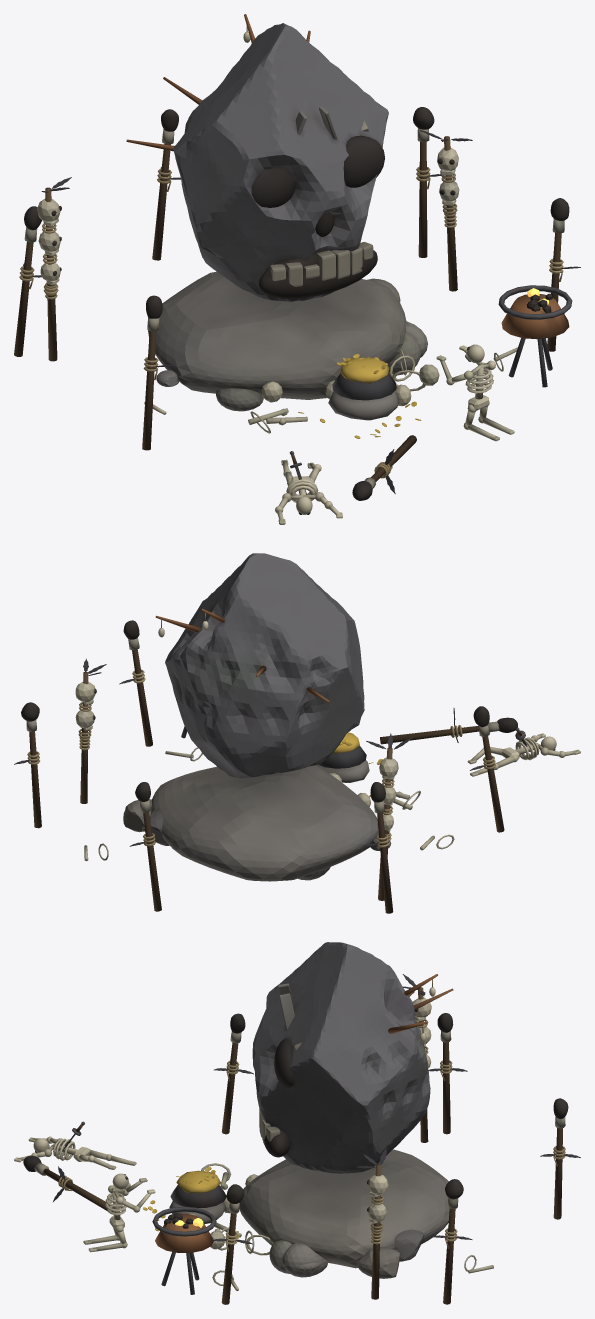
Rendered from skull_totem.0005ea98.glb.
The picture shows the model from 3 angles, top to bottom: view 1: azimuth 30°, elevation 25°; view 2: azimuth 150°, elevation 25°; view 3: azimuth 270°, elevation 25°; orthographic projection. The views are drawn at different scales.
Visible parts, largest first — view 1: skull_totem; view 2: skull_totem; view 3: skull_totem.
Part boxes in pixels (left/top/right/bottom): skull_totem: left=14, top=14, right=580, bottom=524; skull_totem: left=14, top=553, right=580, bottom=913; skull_totem: left=14, top=942, right=580, bottom=1304.
Bounding box in the file's own units: 6.09 × 4.71 × 8.03.
